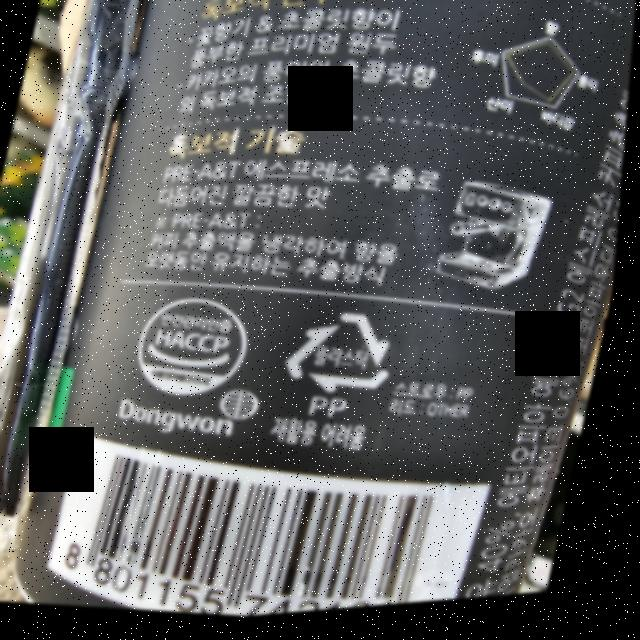Plastic: (283, 305, 413, 413)
